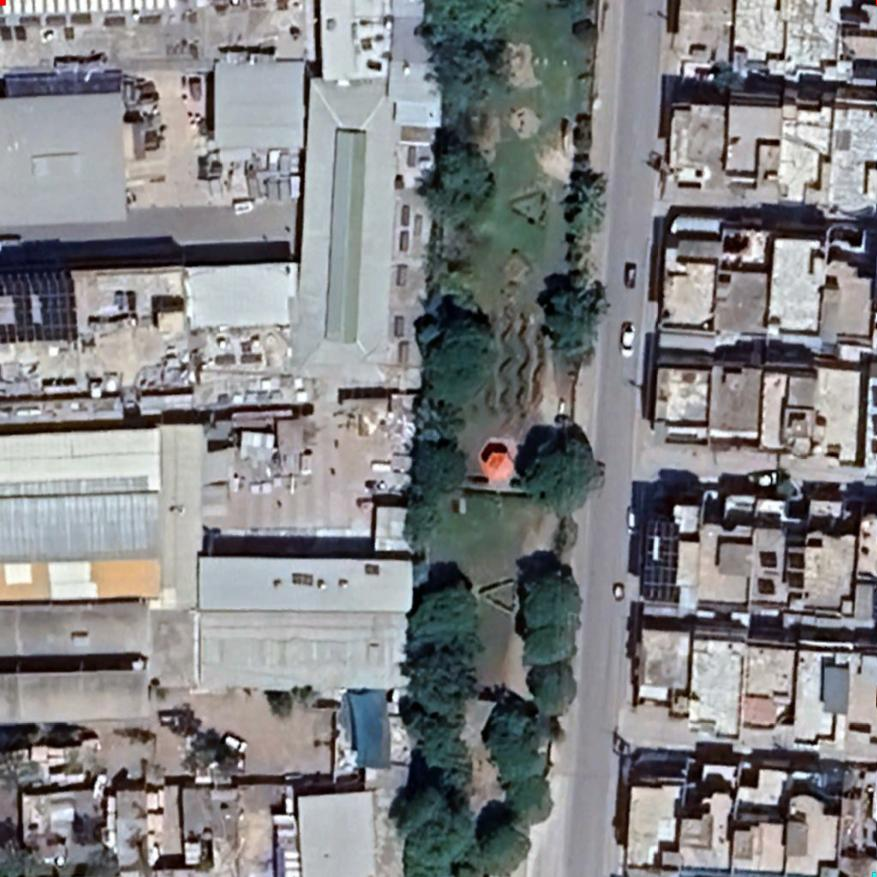Solarpanel: (0, 264, 80, 351), (637, 510, 685, 607)
